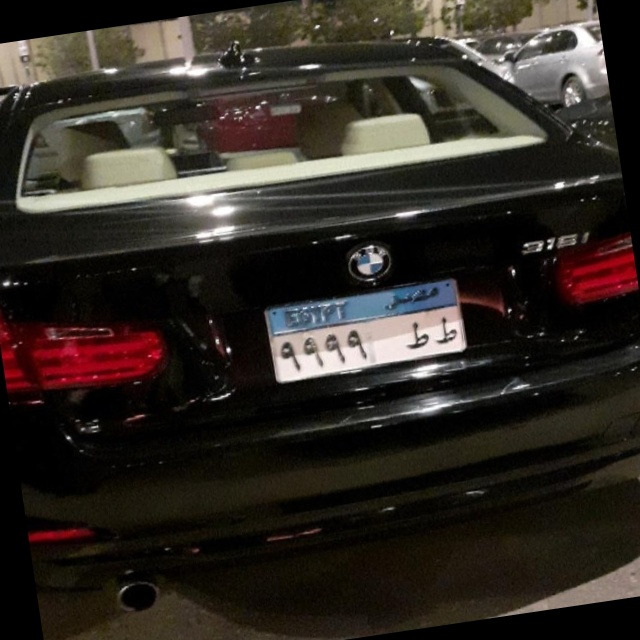License Plate: (258, 276, 472, 387)
